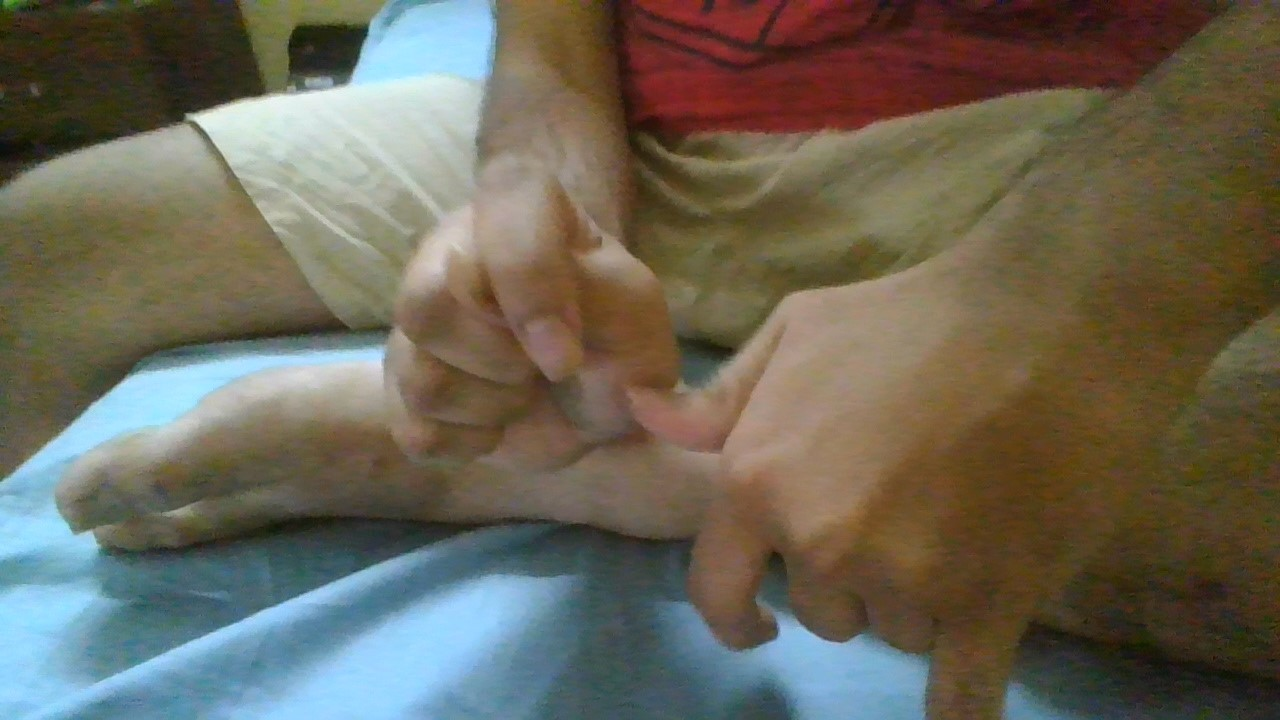t: (377, 143, 682, 486)
